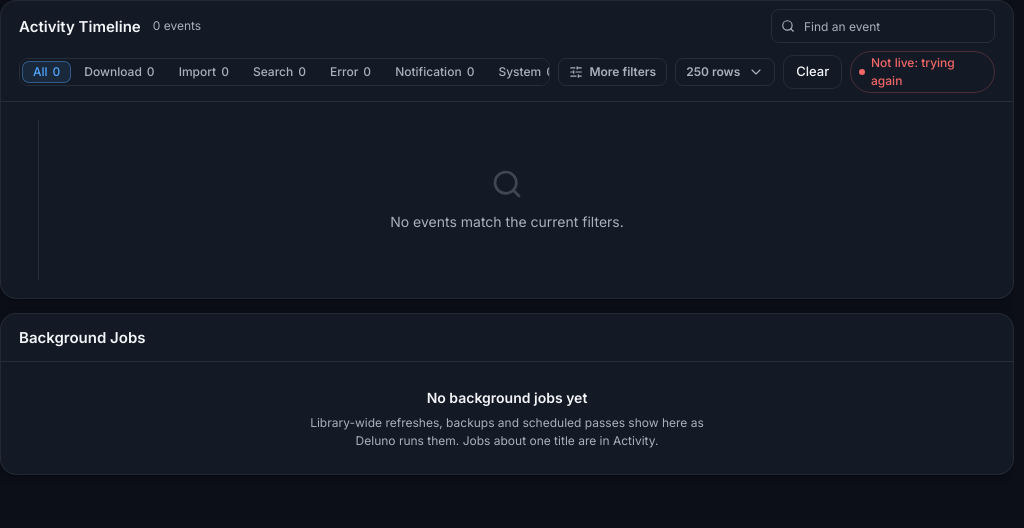
Activity timeline (System > Audit) › a page size refused with no reason still says the save failed in plain words (#1415)
The width and height of the screenshot is (1024, 528).
Click the dropdown named "Rows shown": click(725, 72) [675,58,775,86]
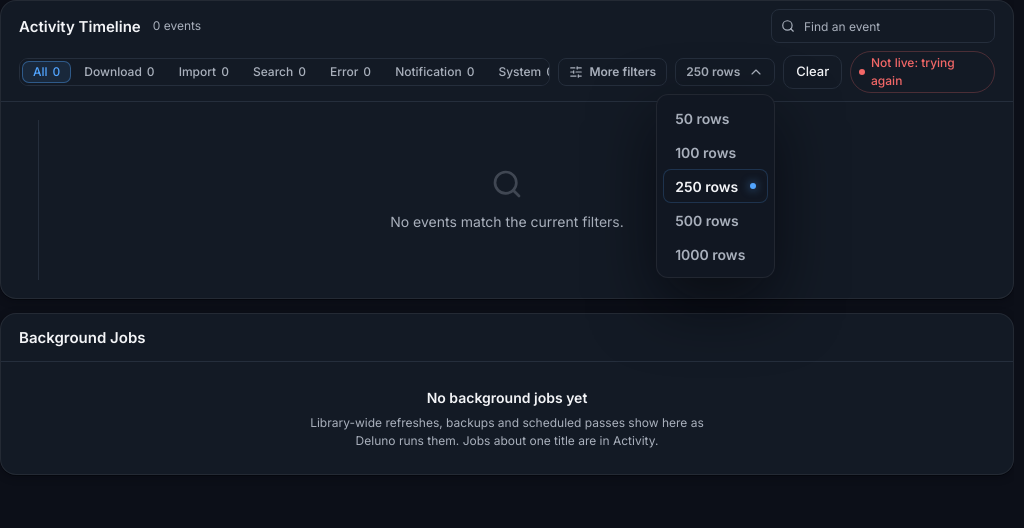
Click the option "250 rows": click(716, 186) [663,169,768,203]
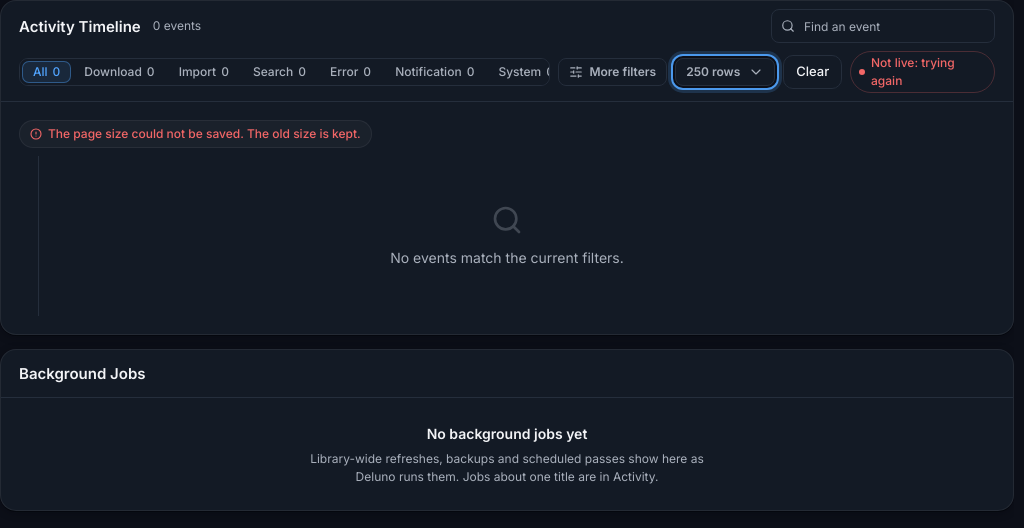
Result: the text "The page size could not be saved. The old size is kept." is shown at [19,120,372,148]
